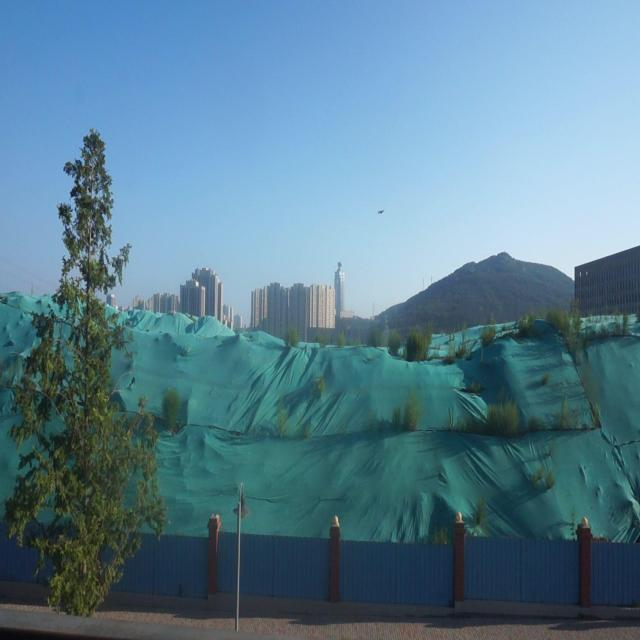UAV: (378, 208, 384, 214)
